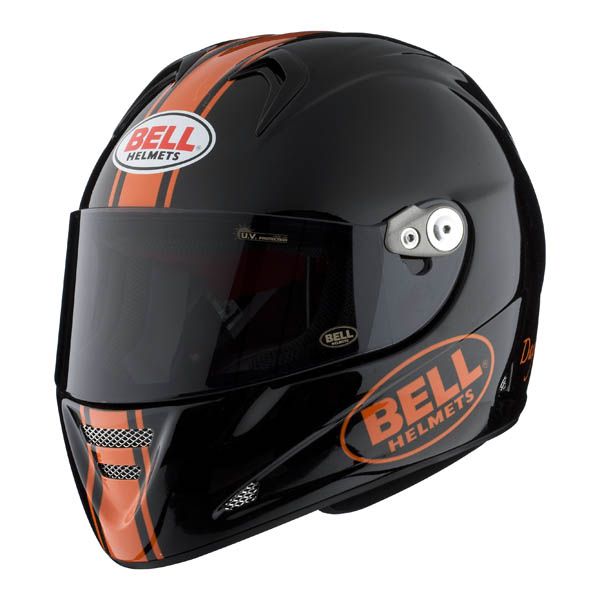helmet: (63, 33, 558, 543)
